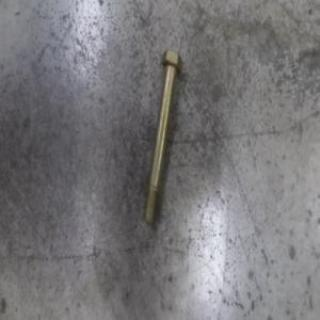Bolttrack_idkeyframe: (142, 48, 182, 226)
